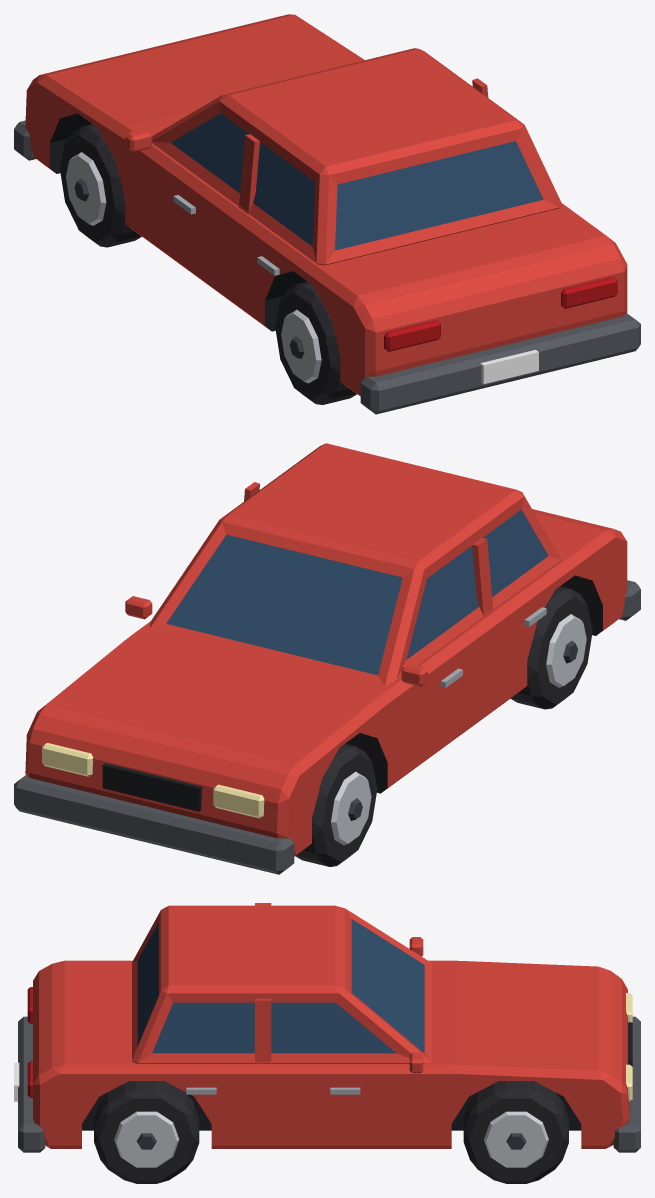
The model's file is Car_Red.glb.
3 views of the same model, one above another, from view 1: azimuth 30°, elevation 25°; view 2: azimuth 150°, elevation 25°; view 3: azimuth 270°, elevation 25° (orthographic). The views are drawn at different scales.
Parts seen in each view (by area): view 1: Car_Red_Body, Car_Red_Wheel_FL, Car_Red_Wheel_RL; view 2: Car_Red_Body, Car_Red_Wheel_FL, Car_Red_Wheel_RL; view 3: Car_Red_Body, Car_Red_Wheel_FR, Car_Red_Wheel_RR.
Boxes of the visible parts, <box> form: Car_Red_Body: <box>14,14,640,414</box>; Car_Red_Wheel_FL: <box>60,124,141,247</box>; Car_Red_Wheel_RL: <box>275,282,356,404</box>; Car_Red_Body: <box>14,443,640,874</box>; Car_Red_Wheel_FL: <box>295,744,377,866</box>; Car_Red_Wheel_RL: <box>510,586,592,709</box>; Car_Red_Body: <box>14,903,640,1152</box>; Car_Red_Wheel_FR: <box>463,1081,568,1183</box>; Car_Red_Wheel_RR: <box>94,1081,199,1183</box>.
Size of the model in its own units: 2.16 by 1.5 by 4.58.
1 material, 1 textured.
